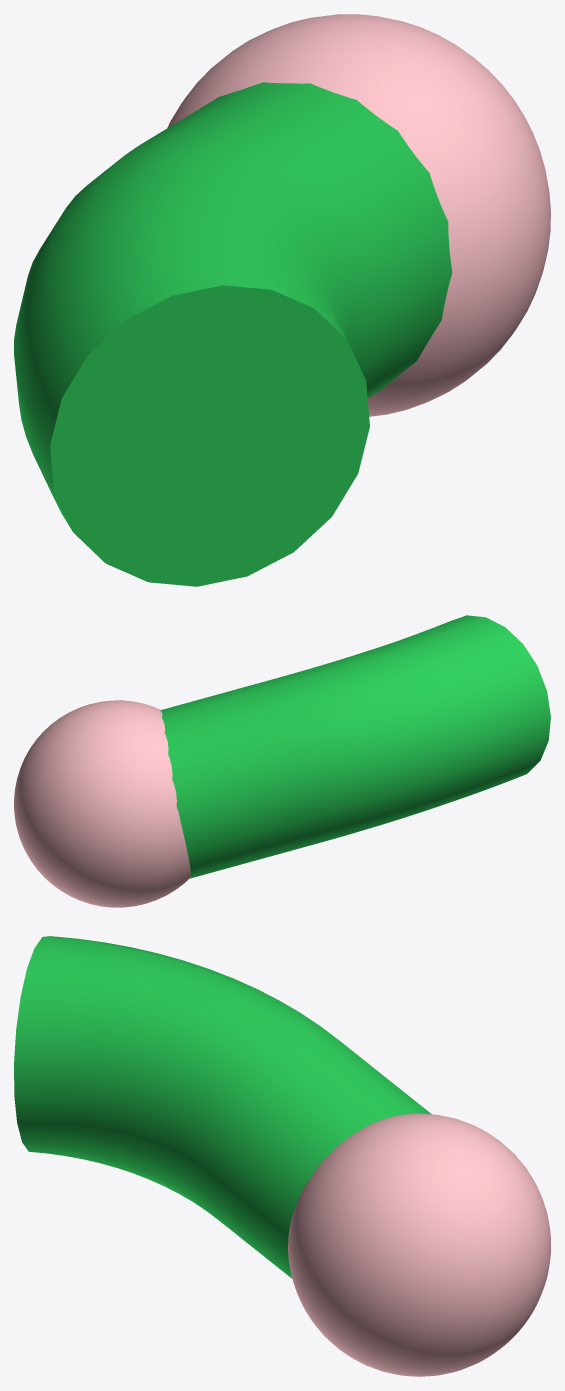
File: Frijolito_BrazoDer.obj
3 renders of one model, top to bottom at view 1: azimuth 30°, elevation 25°; view 2: azimuth 150°, elevation 25°; view 3: azimuth 270°, elevation 25°, orthographic. The views are drawn at different scales.
Parts seen in each view (by area): view 1: BrazoDer; view 2: BrazoDer; view 3: BrazoDer.
Part boxes in pixels (bbox=[...]): BrazoDer: bbox=[14, 14, 550, 586]; BrazoDer: bbox=[14, 615, 550, 907]; BrazoDer: bbox=[14, 936, 550, 1376].
Bounding box in the file's own units: 4.63 × 2.57 × 4.43.
